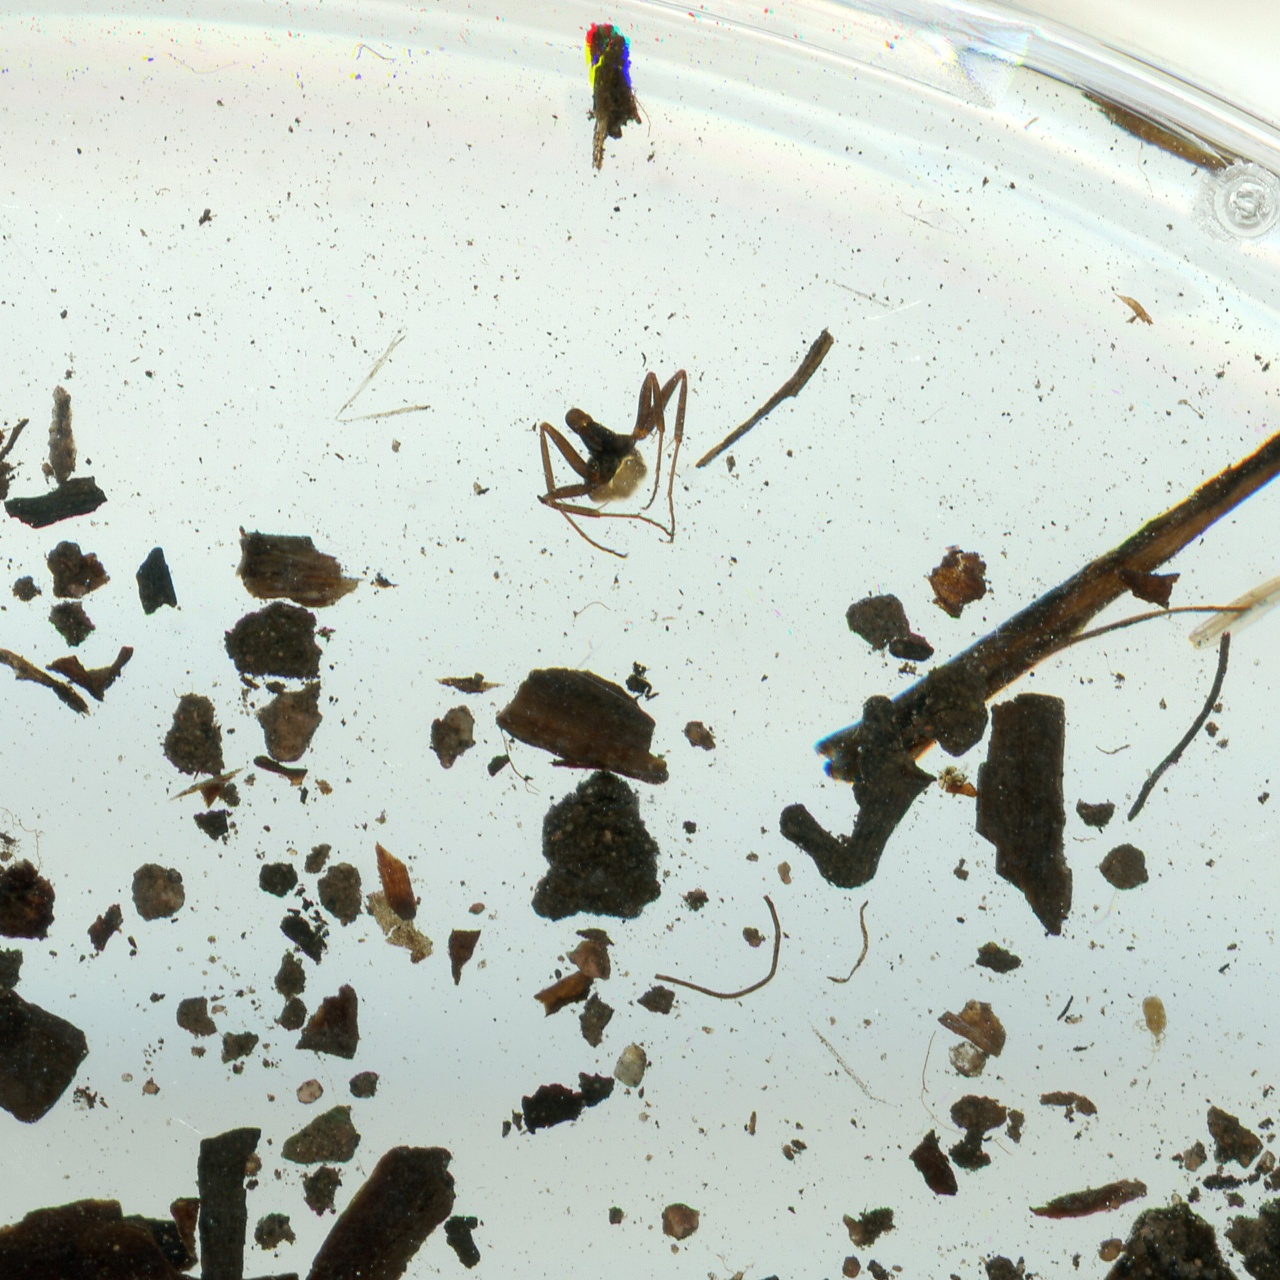arthropod: (532, 365, 694, 562), (1131, 990, 1171, 1070)
